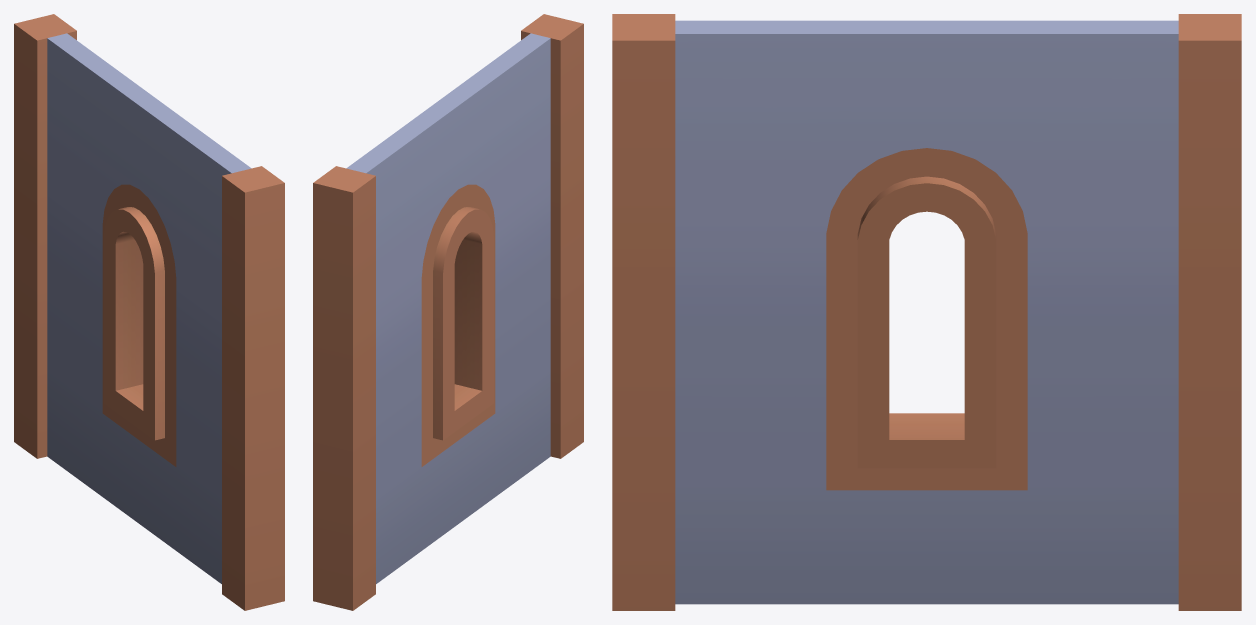
Rendered from wall-window-round.glb.
3 renders of one model, left to right at view 1: azimuth 30°, elevation 25°; view 2: azimuth 150°, elevation 25°; view 3: azimuth 270°, elevation 25°, orthographic. The views are drawn at different scales.
Visible parts, largest first — view 1: wall-window-round; view 2: wall-window-round; view 3: wall-window-round.
Boxes of the visible parts, x1,y1,x2,y2 form: wall-window-round: (14, 14, 284, 610); wall-window-round: (313, 14, 583, 610); wall-window-round: (612, 14, 1241, 610).
Bounding box in the file's own units: 0.1 × 1 × 1.
Materials: 1 (1 with a texture image).
